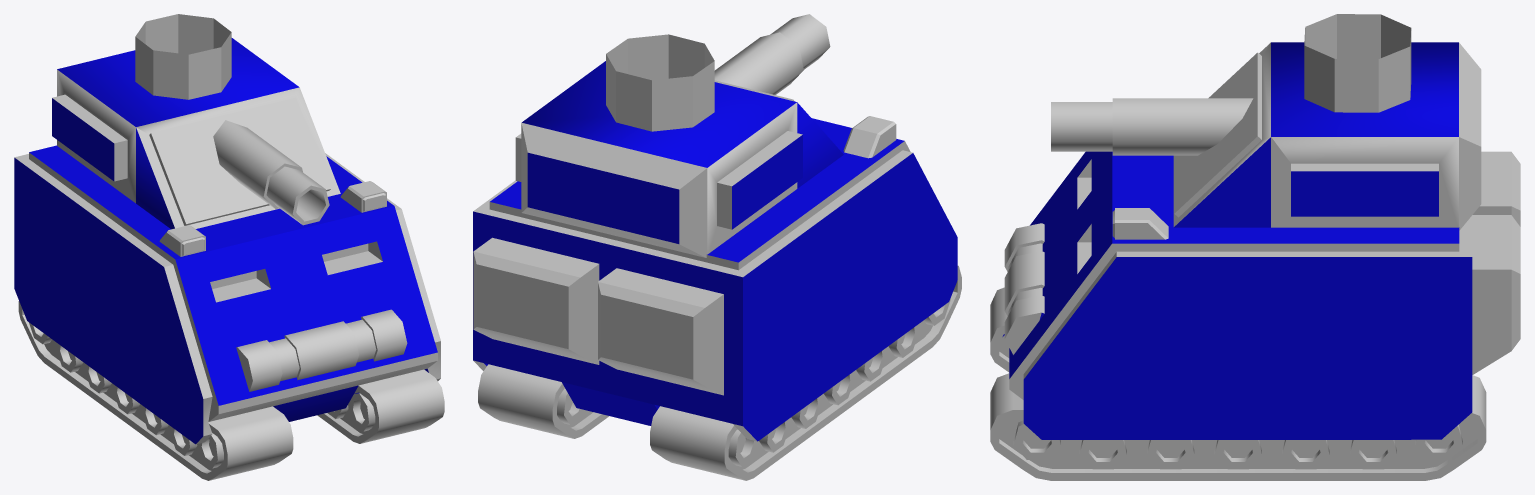
The model's file is Tank(5Level).fbx.
The picture shows the model from 3 angles, left to right: view 1: azimuth 30°, elevation 25°; view 2: azimuth 150°, elevation 25°; view 3: azimuth 270°, elevation 25°; orthographic projection. The views are drawn at different scales.
Parts seen in each view (by area): view 1: Tank, TankTurret; view 2: Tank, TankTurret; view 3: Tank, TankTurret.
Boxes of the visible parts, x1,y1,x2,y2 form: Tank: (14,145,444,480); TankTurret: (52,14,340,229); Tank: (473,116,961,480); TankTurret: (515,14,843,257); Tank: (990,151,1520,480); TankTurret: (1051,14,1481,230).
Bounding box in the file's own units: 229 × 297 × 373.
